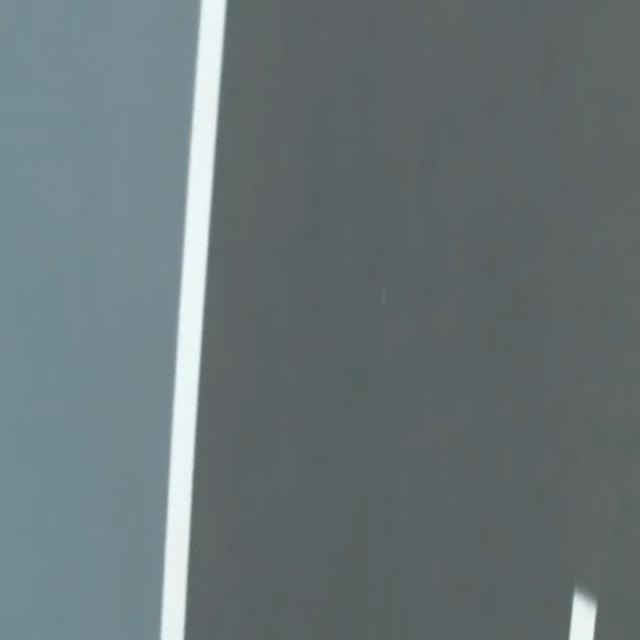center: (568, 588, 596, 639)
left: (159, 0, 227, 639)
